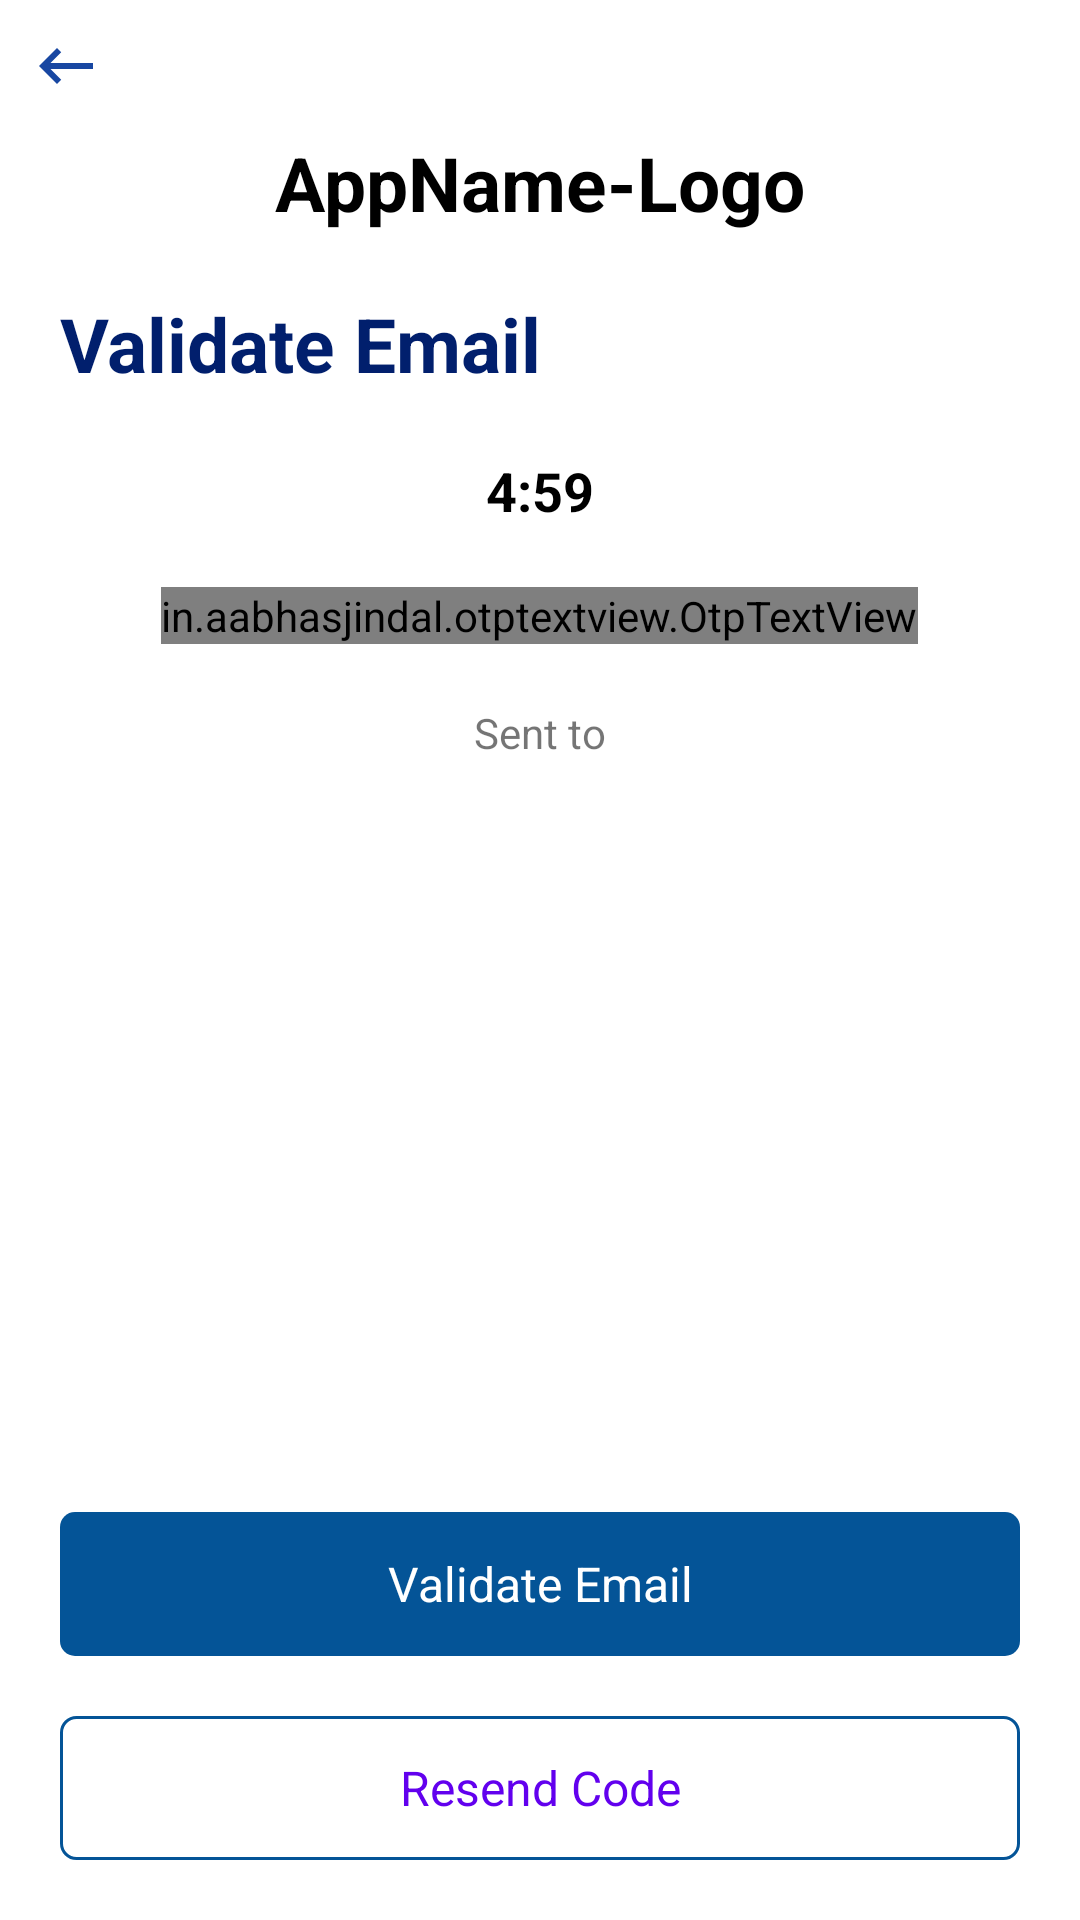

Screen size 1080px x 1920px. Icon name, then its box in pixels as [x1, y1, x2, y2]:
back: [39, 48, 93, 84]
